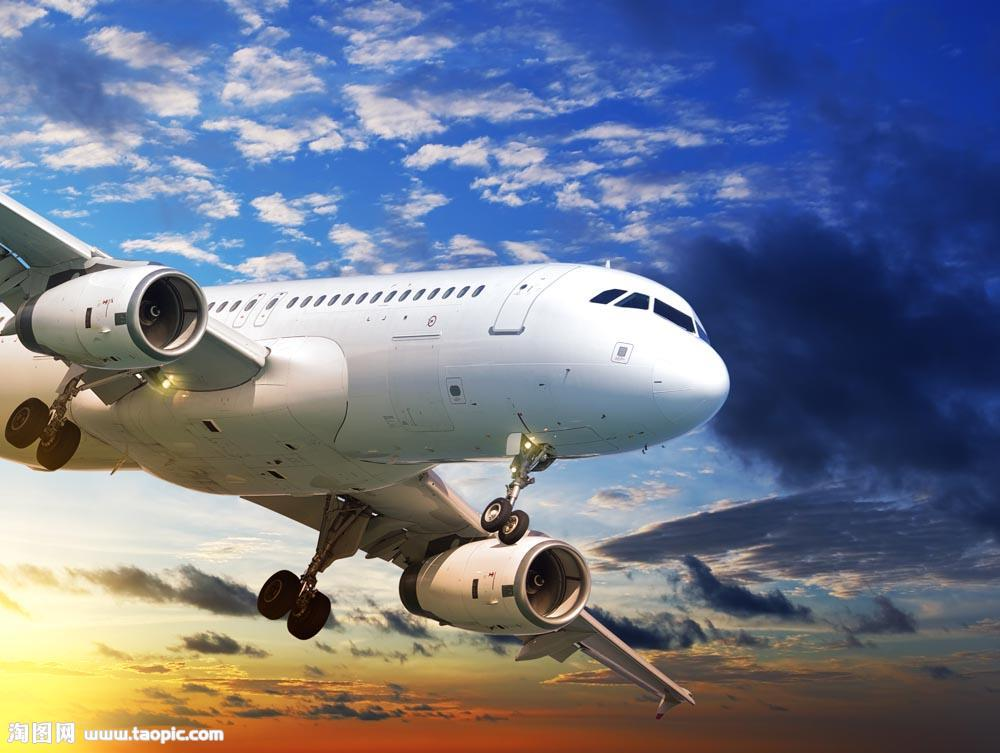airplane: (1, 189, 723, 722)
